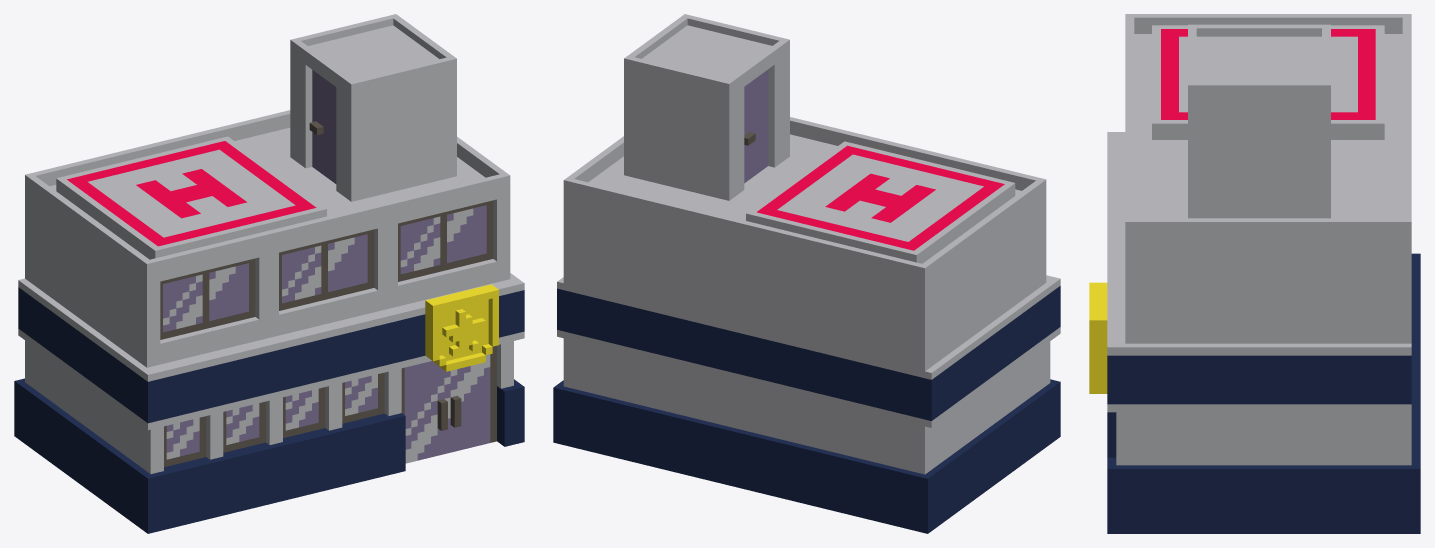
The model's file is police_office_a.obj.
3 renders of one model, left to right at view 1: azimuth 30°, elevation 25°; view 2: azimuth 150°, elevation 25°; view 3: azimuth 270°, elevation 25°, orthographic. The views are drawn at different scales.
Bounding box in the file's own units: 5.7 × 5.3 × 3.7.
Materials: 1 (1 with a texture image).
